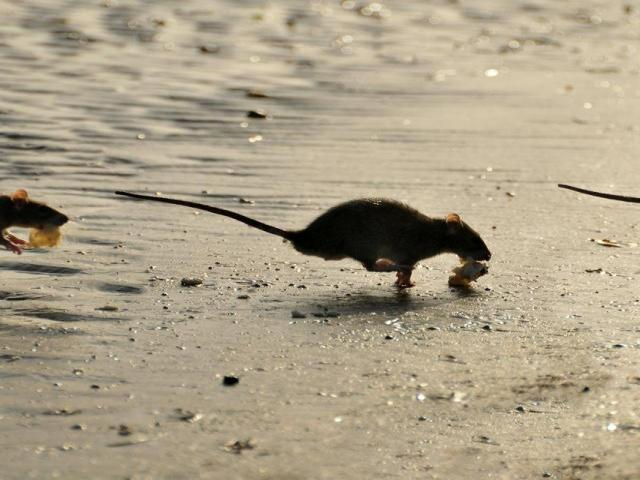Tikus: (112, 187, 494, 292)
